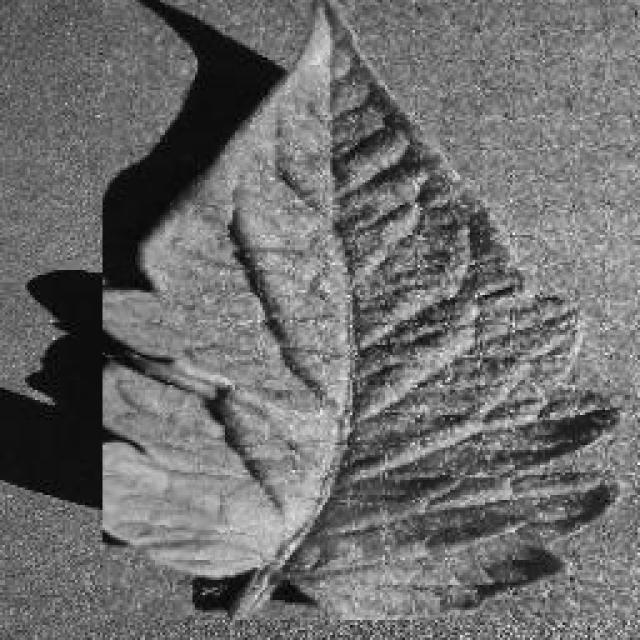Healthy: (102, 0, 638, 620)
